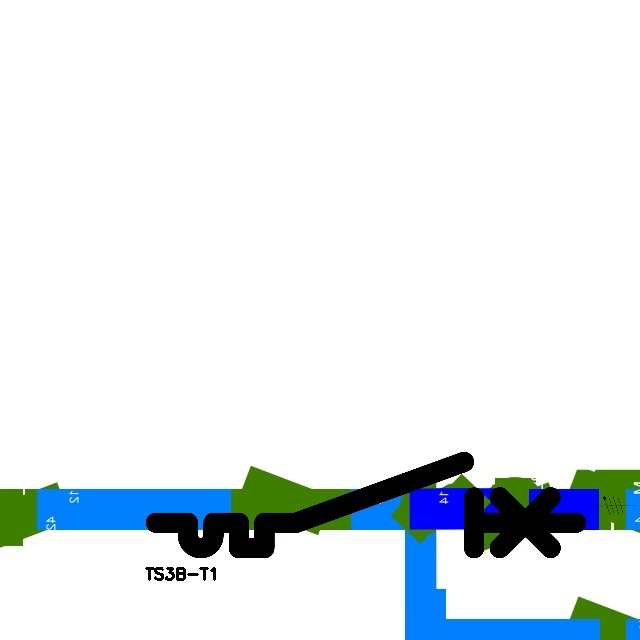interruptor_termomagnetico: (145, 451, 587, 559)
